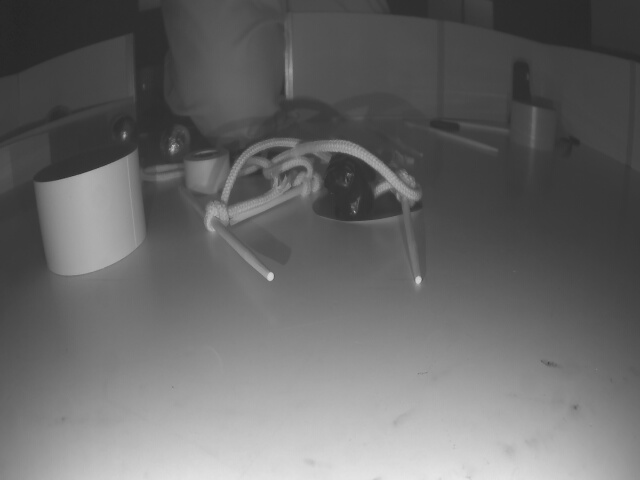Dead: (324, 149, 377, 214)
Live: (161, 126, 197, 162), (115, 118, 137, 145)
Point: (0, 99, 133, 192)
